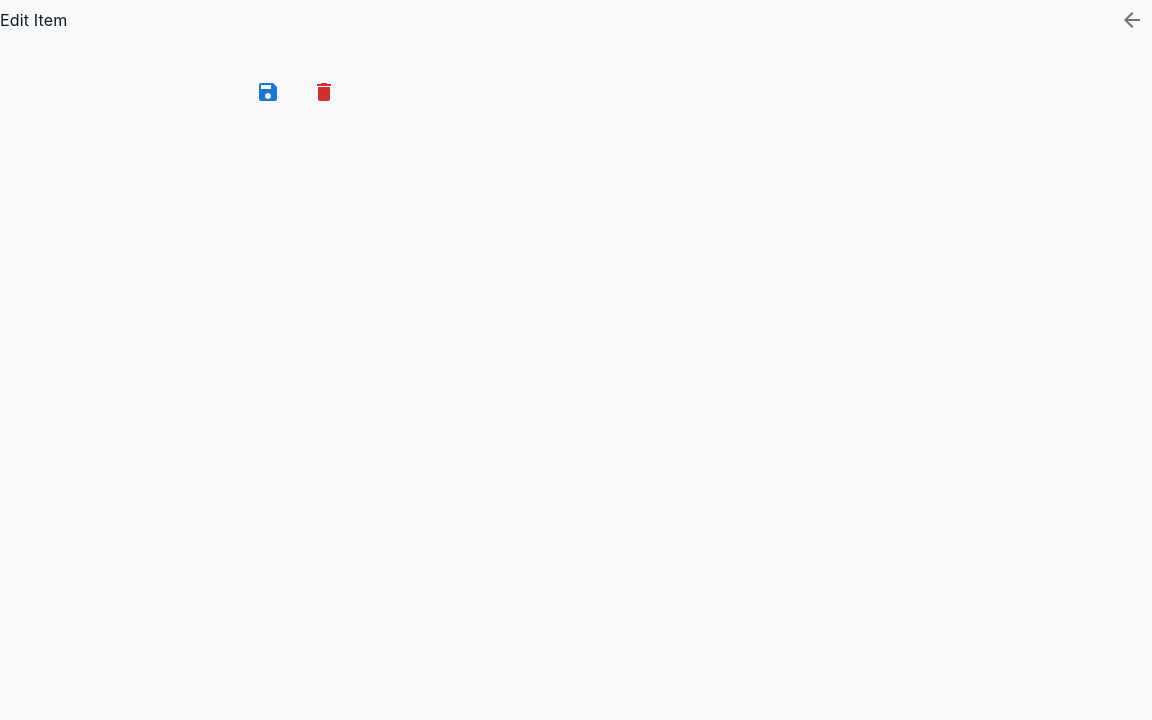
FormWithChildGrid › delete dialog › opens delete dialog when delete button clicked
The image size is (1152, 720).
Click the button named "Delete Item": coordinates (324, 92) [304,72,344,112]
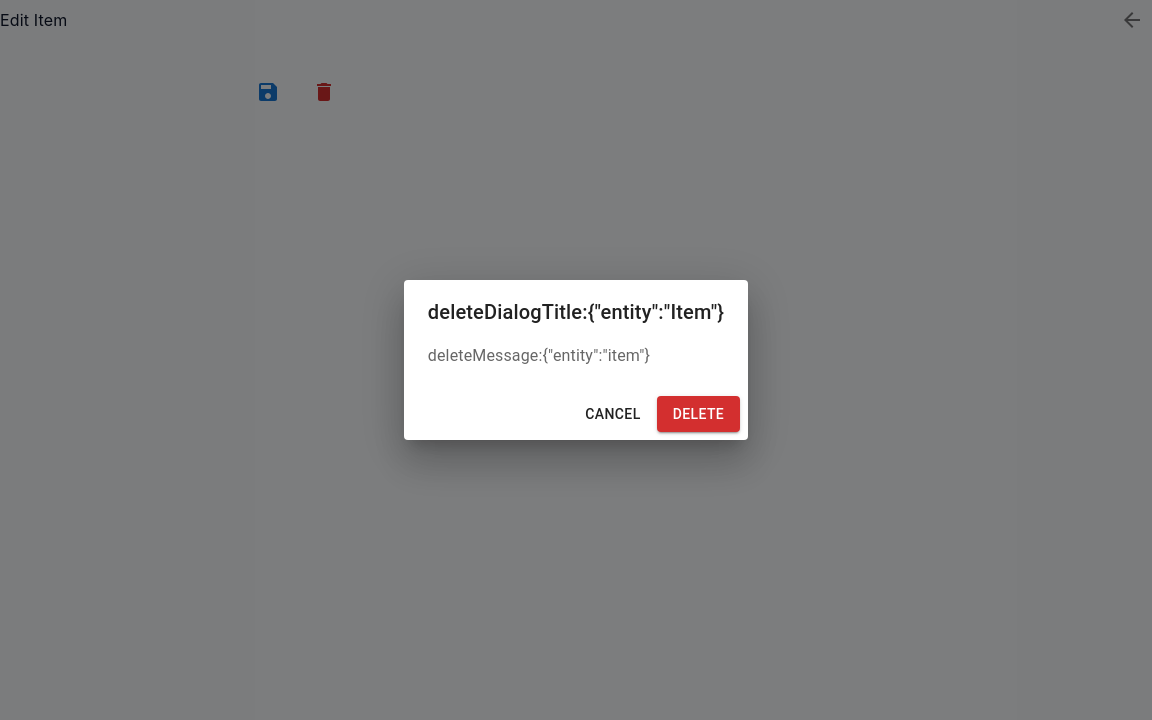
Check: the heading "deleteDialogTitle:{\"entity\":\"Item\"}" is shown, box [428,300,724,324]
